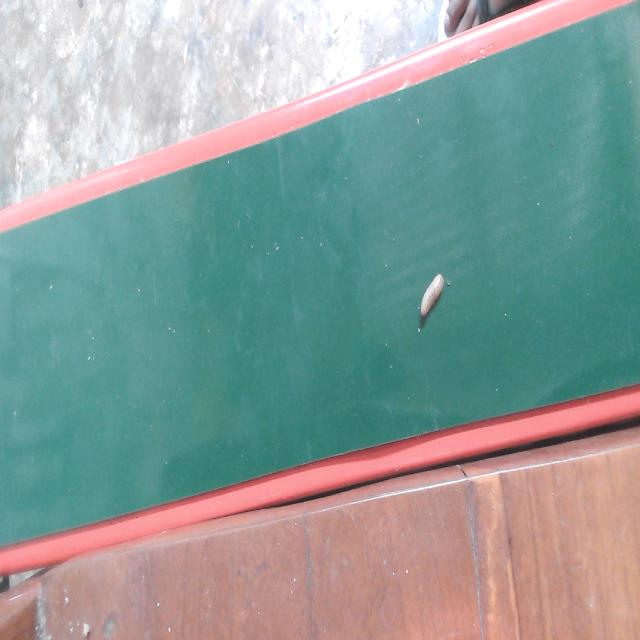Maggot: (416, 276, 446, 331)
